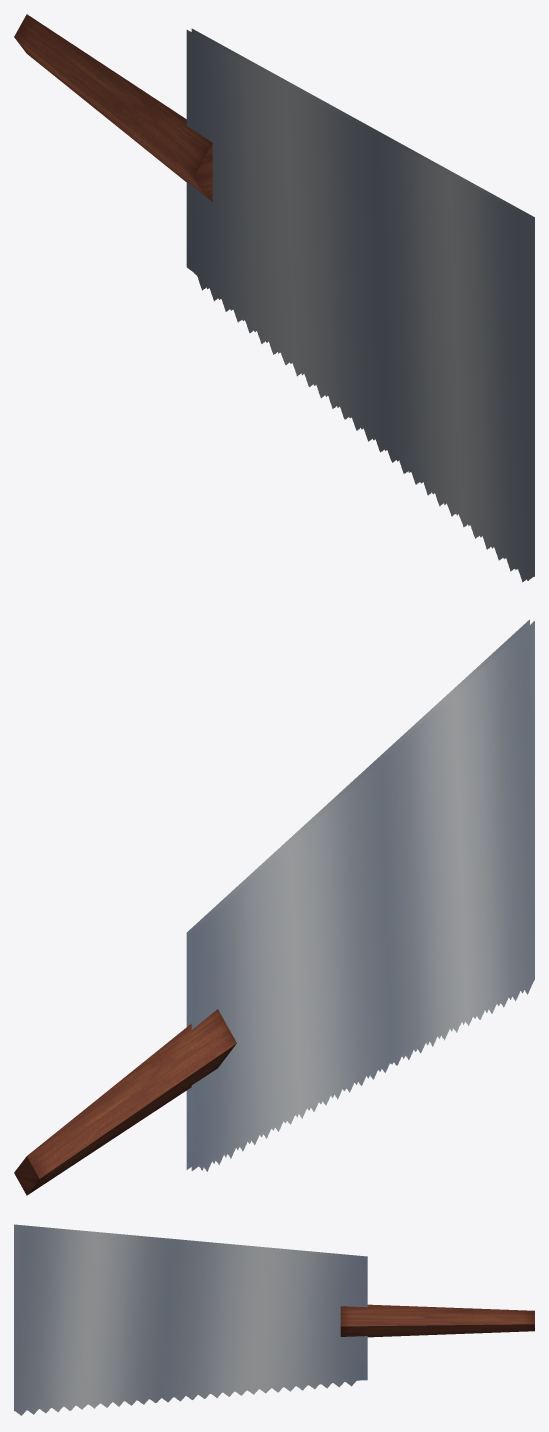
The model's file is Saw_01_unity.fbx.
3 renders of one model, top to bottom at view 1: azimuth 30°, elevation 25°; view 2: azimuth 150°, elevation 25°; view 3: azimuth 270°, elevation 25°, orthographic. The views are drawn at different scales.
Parts seen in each view (by area): view 1: pPlane1, pCylinder1, pPlane2; view 2: pPlane1, pCylinder1, pPlane2; view 3: pPlane2, pCylinder1, pPlane1.
Boxes of the visible parts, <box> form: pPlane1: <box>186,30,529,582</box>; pCylinder1: <box>14,14,212,201</box>; pPlane2: <box>191,28,534,580</box>; pPlane1: <box>191,621,534,1171</box>; pCylinder1: <box>14,1009,236,1195</box>; pPlane2: <box>186,619,529,1170</box>; pPlane2: <box>14,1225,367,1415</box>; pCylinder1: <box>340,1304,534,1337</box>; pPlane1: <box>14,1224,367,1257</box>.
Bounding box in the file's own units: 0.193 × 1.58 × 3.89.
